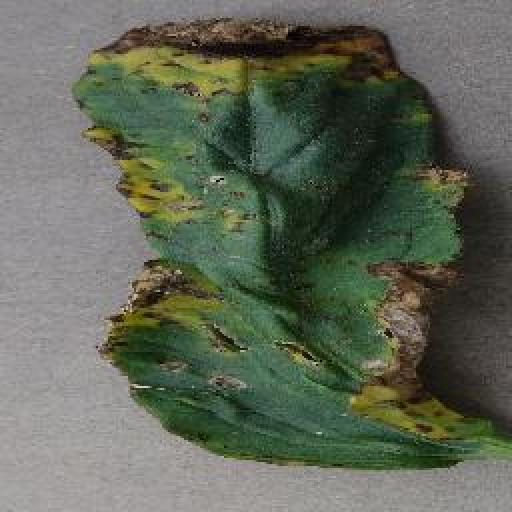Bacterial Spot: (65, 8, 512, 485)
